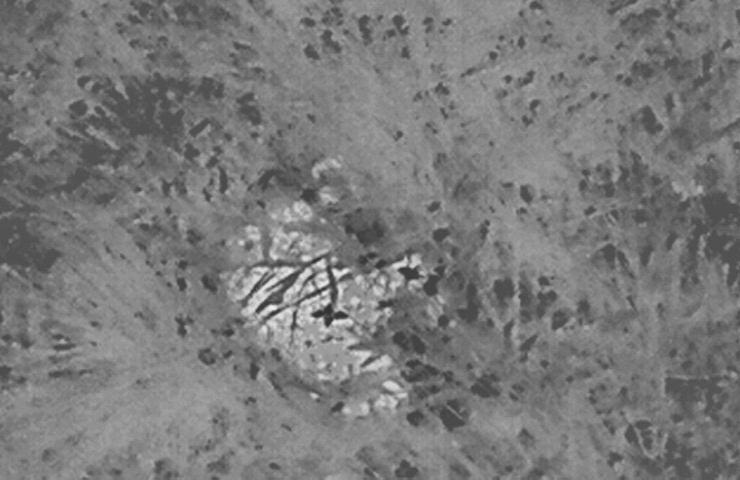landmines: (222, 201, 432, 415)
